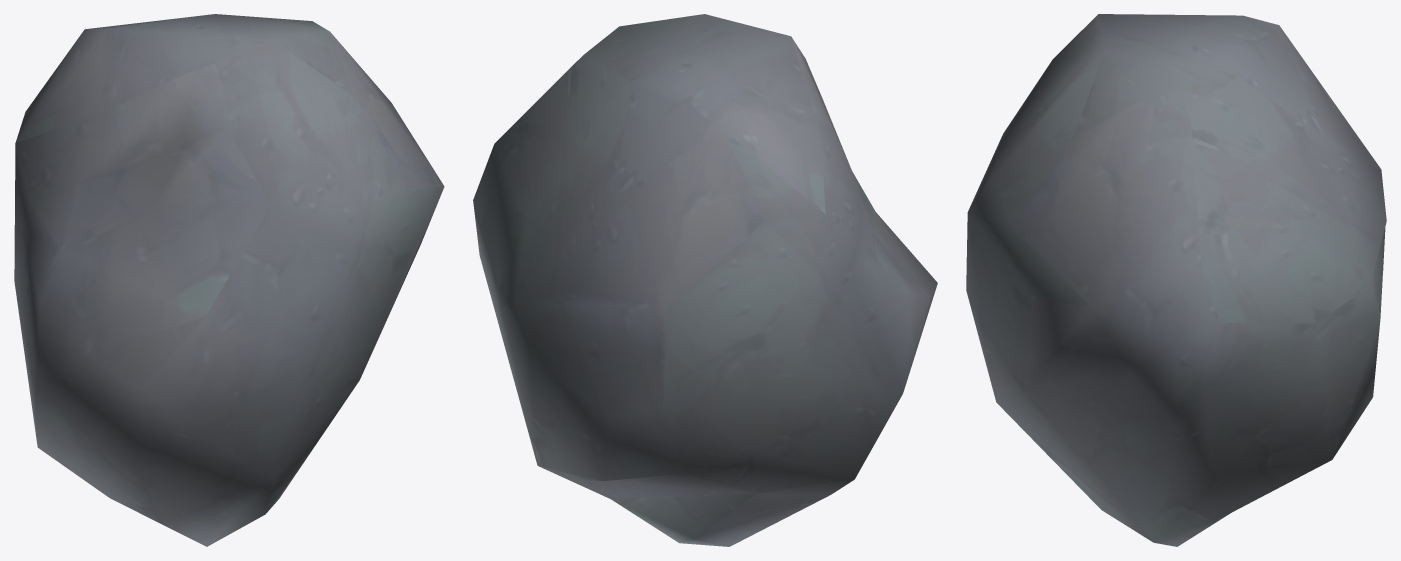
File: Boulder_M.fbx
3 renders of one model, left to right at view 1: azimuth 30°, elevation 25°; view 2: azimuth 150°, elevation 25°; view 3: azimuth 270°, elevation 25°, orthographic.
Visible parts, largest first — view 1: Blouder_M; view 2: Blouder_M; view 3: Blouder_M.
Part boxes in pixels (x1,y1,x2,y2): Blouder_M: (14, 14, 444, 546); Blouder_M: (473, 14, 937, 546); Blouder_M: (966, 14, 1386, 546).
Bounding box in the file's own units: 594 × 703 × 528.
